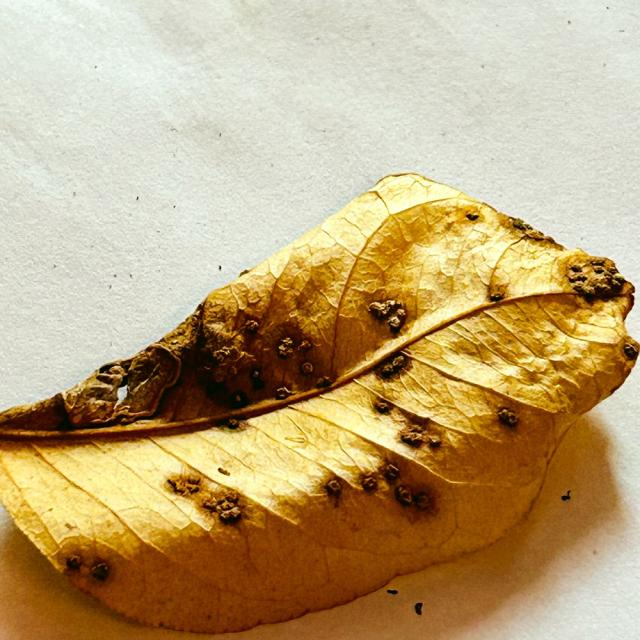DryLeaf_Lemon: (0, 173, 639, 632)
